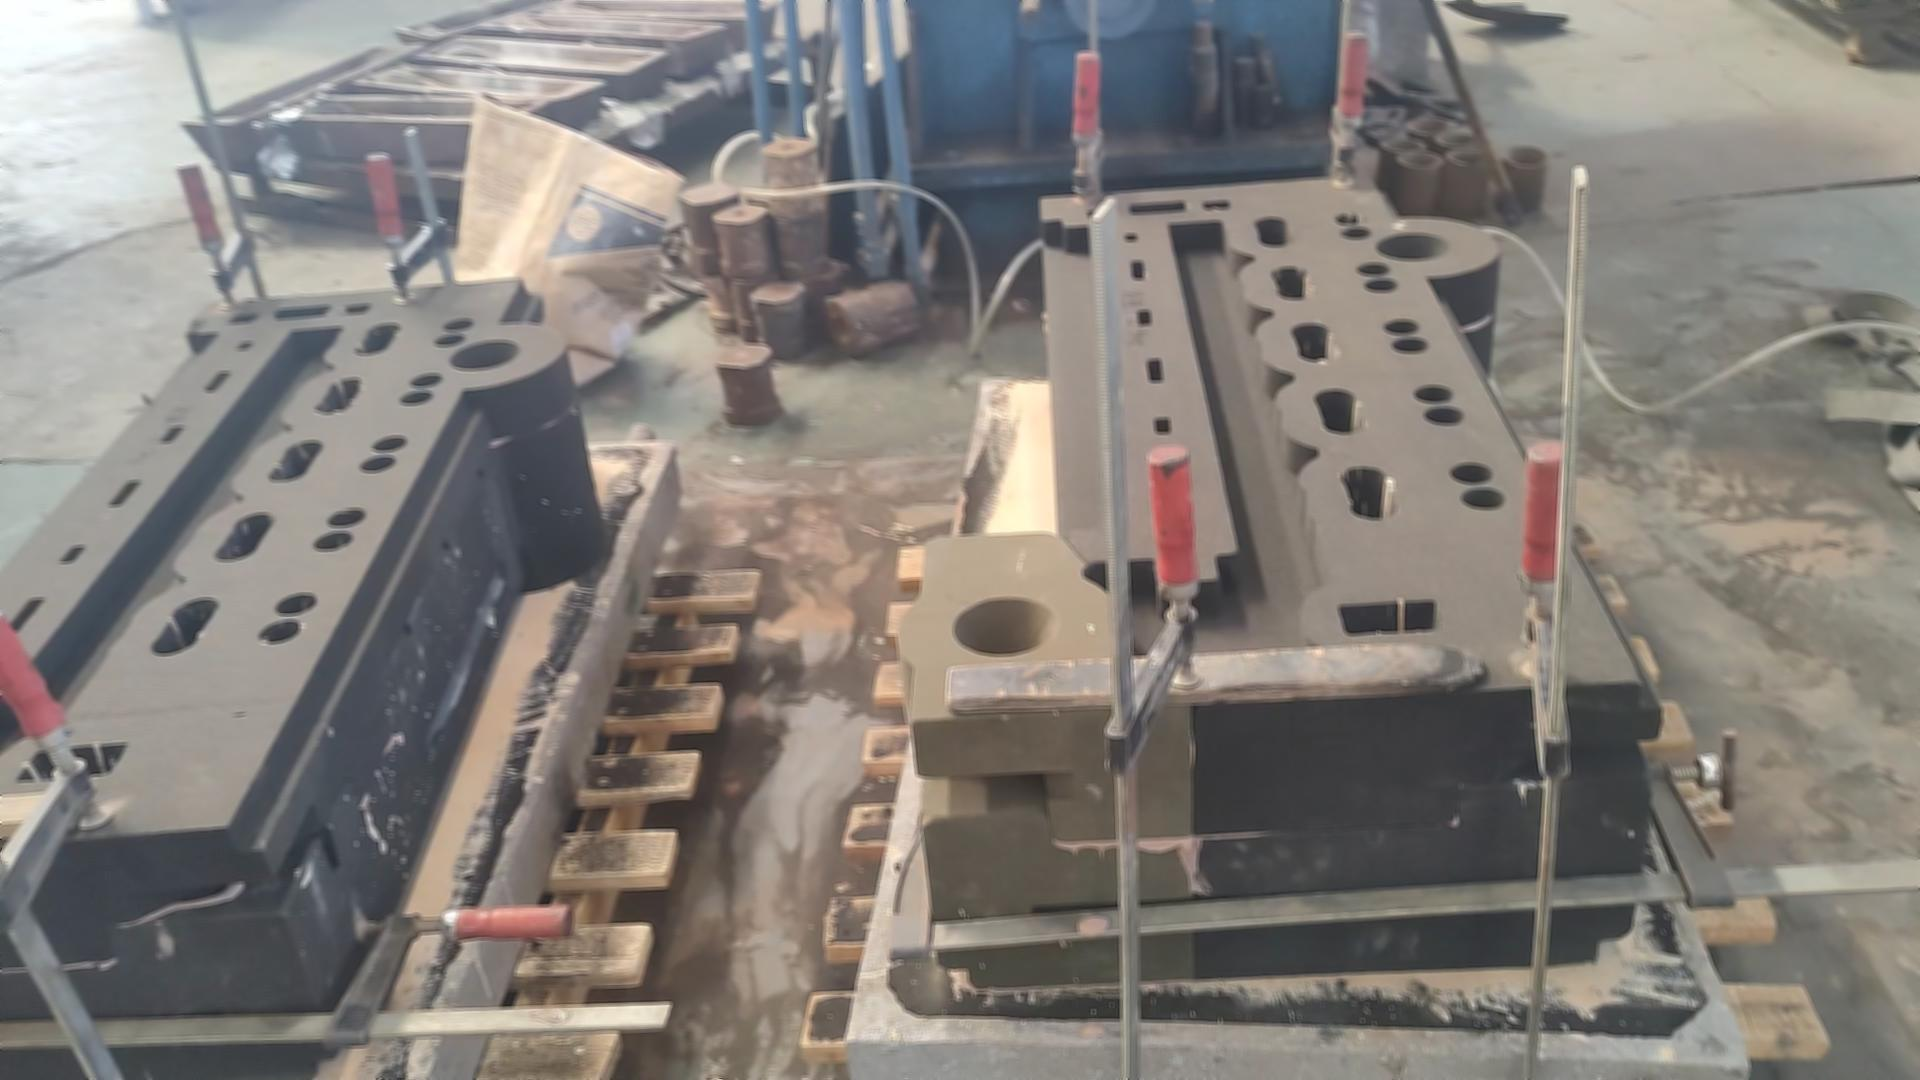pouring hole: (953, 597, 1055, 655), (1375, 232, 1449, 262), (448, 340, 520, 371), (1396, 150, 1443, 169), (1505, 146, 1547, 165), (1435, 131, 1480, 146), (1406, 116, 1449, 132), (1382, 138, 1424, 152), (1447, 150, 1485, 164)
